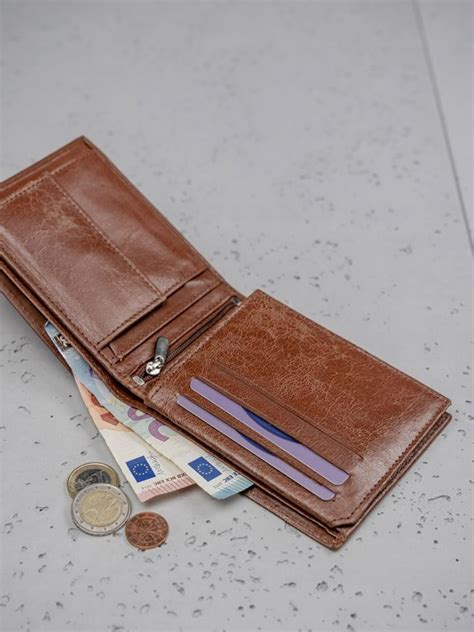cuero: (4, 135, 452, 553)
